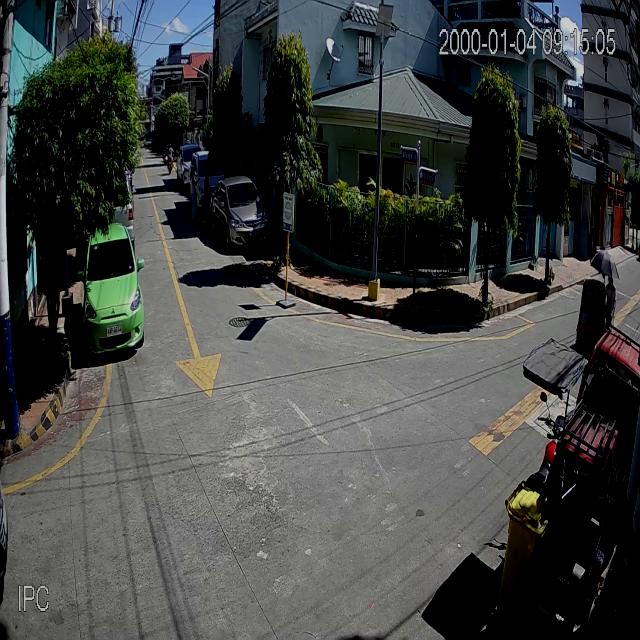standing: (201, 166, 214, 223)
walking: (190, 166, 200, 221)
